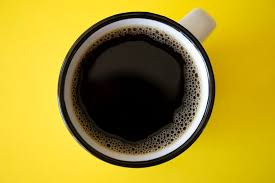cup: (40, 7, 236, 171)
